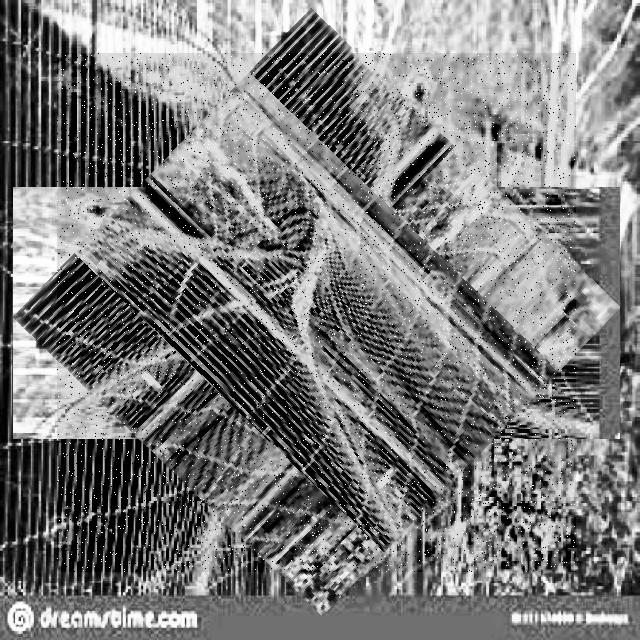anomaly-fence: (57, 53, 576, 572)
